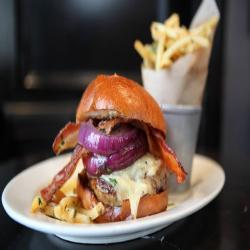burger: (41, 80, 182, 227)
fries: (135, 17, 216, 72)
